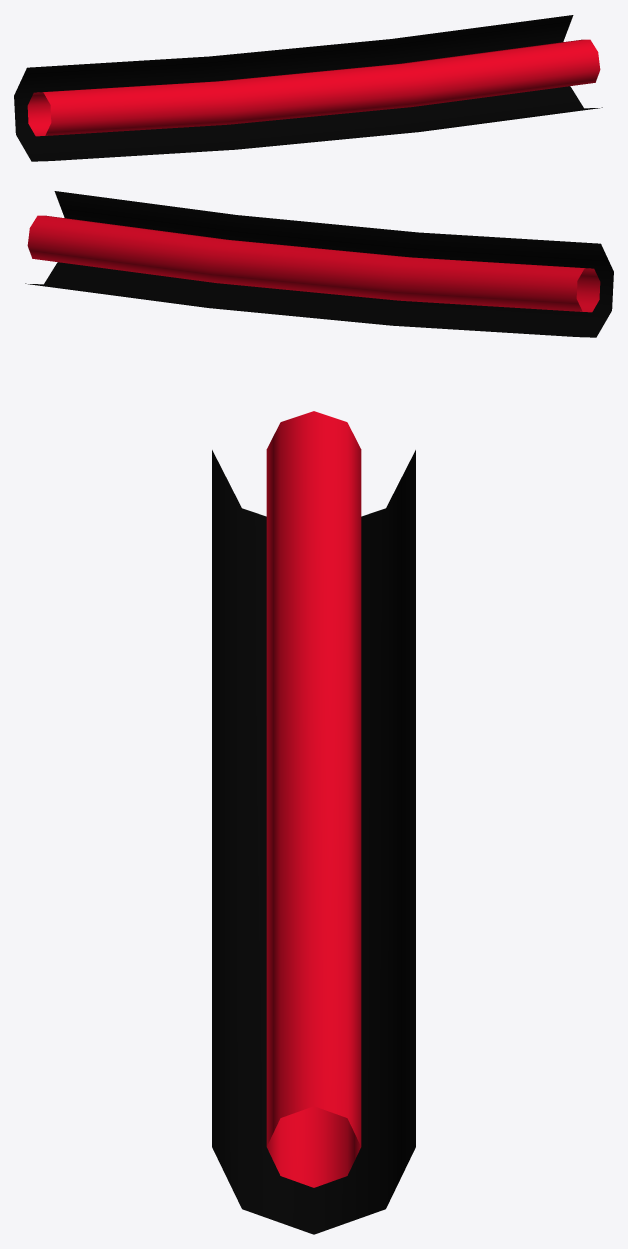
File: TrozoCable1.glb
The picture shows the model from 3 angles, top to bottom: view 1: azimuth 30°, elevation 25°; view 2: azimuth 150°, elevation 25°; view 3: azimuth 270°, elevation 25°; orthographic projection. The views are drawn at different scales.
Visible parts, largest first — view 1: Section1; view 2: Section1; view 3: Section1.
Boxes of the visible parts, bbox=[...] form: Section1: bbox=[14, 15, 602, 161]; Section1: bbox=[25, 191, 613, 337]; Section1: bbox=[212, 411, 415, 1234].
Size of the model in its own units: 13.16 by 3.86 by 2.07.
